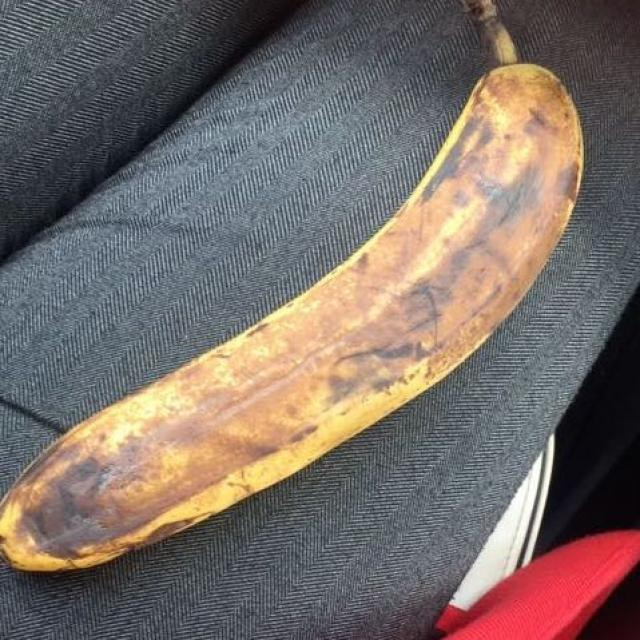banana: (31, 55, 578, 548)
